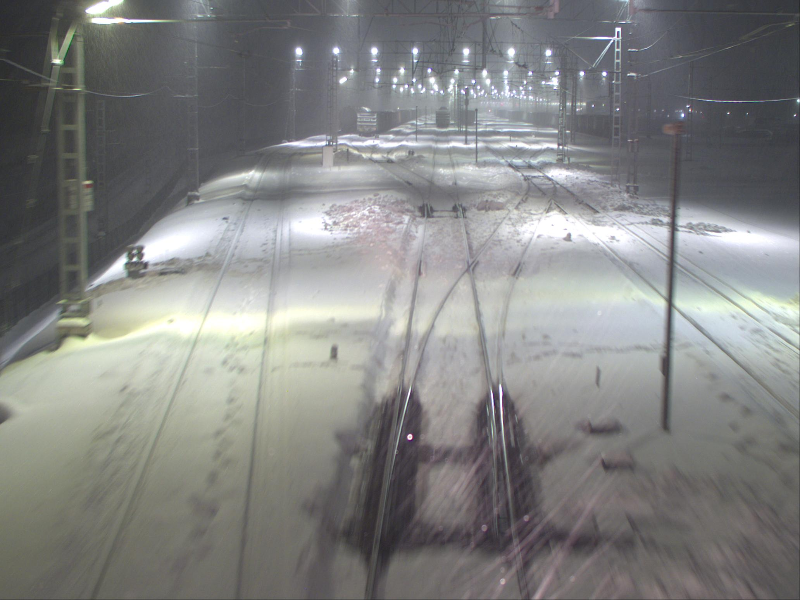left: (422, 180, 466, 219)
right: (386, 261, 525, 548)
